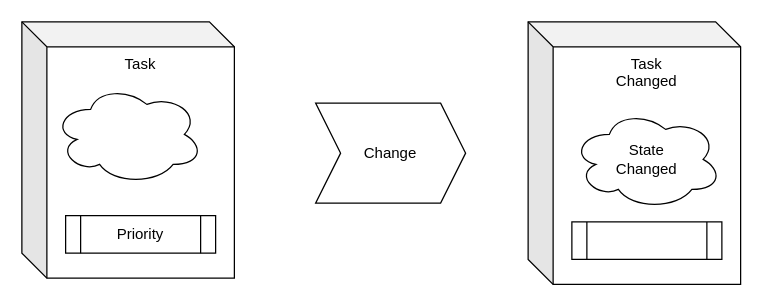
Image size: 763x306. Some labels were removed from this diagram. The shapes that lost their labels are listed below. From the top down, each one's centre as x and y in pixels, then its label:
At point 127,133: "State".
At point 646,240: "Priority Changed".
